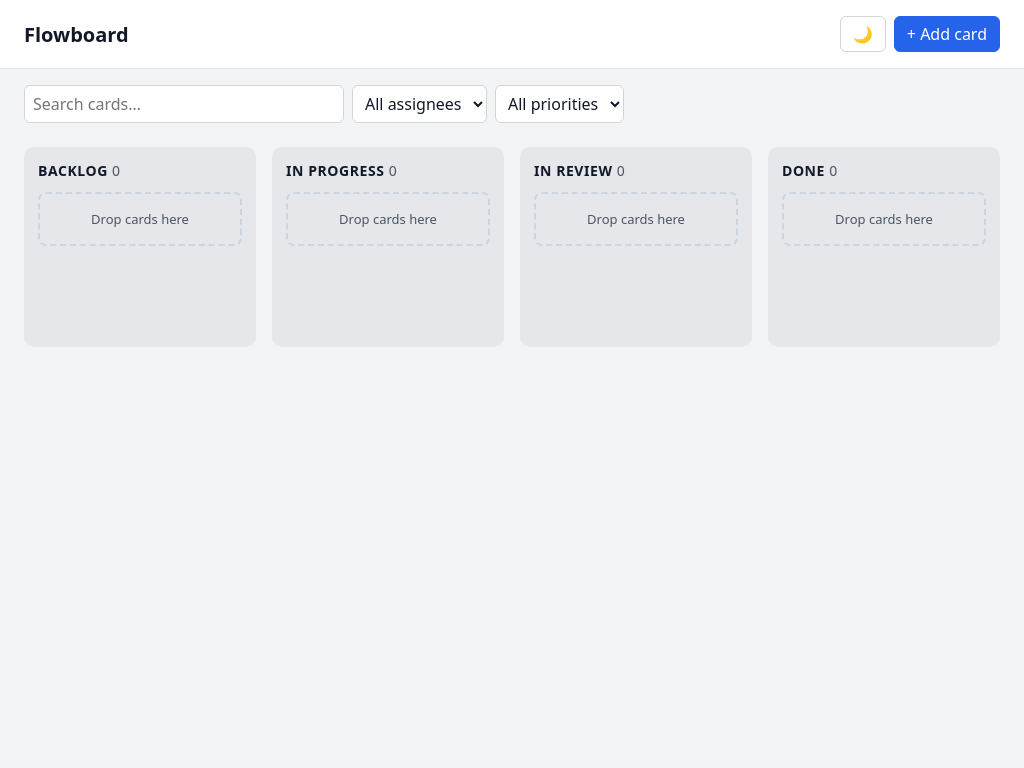
theme toggle › switches light to dark, updates <html> and remembers the choice
Check: the element "Backlog" is shown, box [24,147,256,347]
Step 1. Click the button named "Switch to dark mode" → (863, 34), box [840,16,886,52]
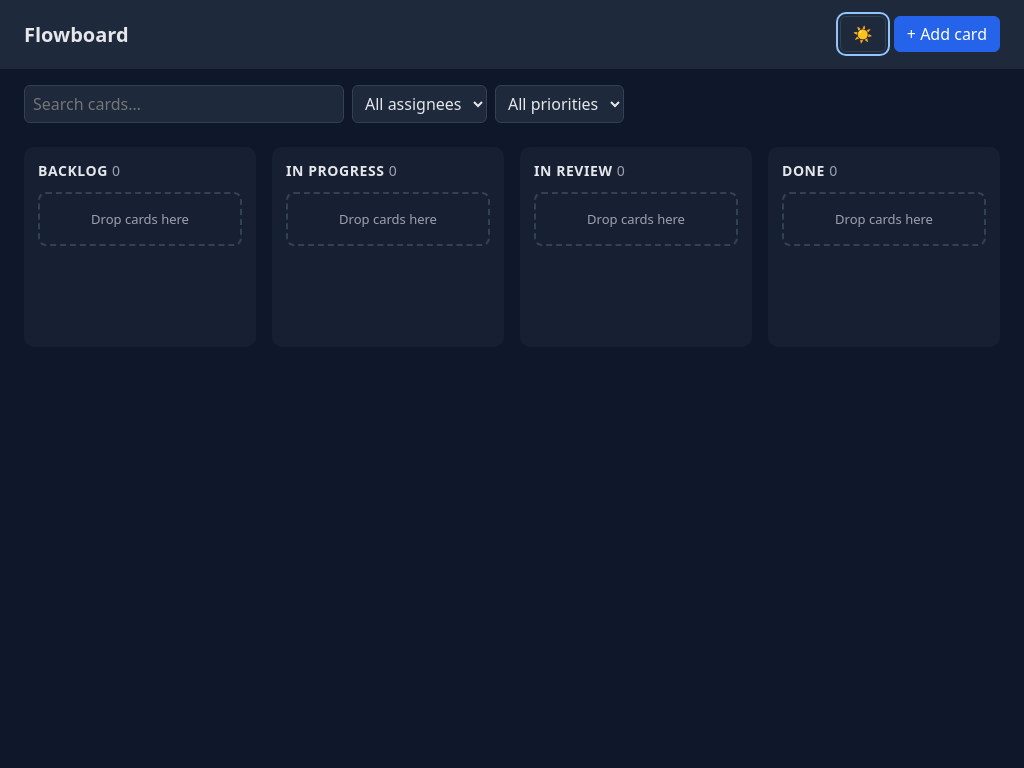
Check: the button named "Switch to light mode" is shown, box [840,16,886,52]
